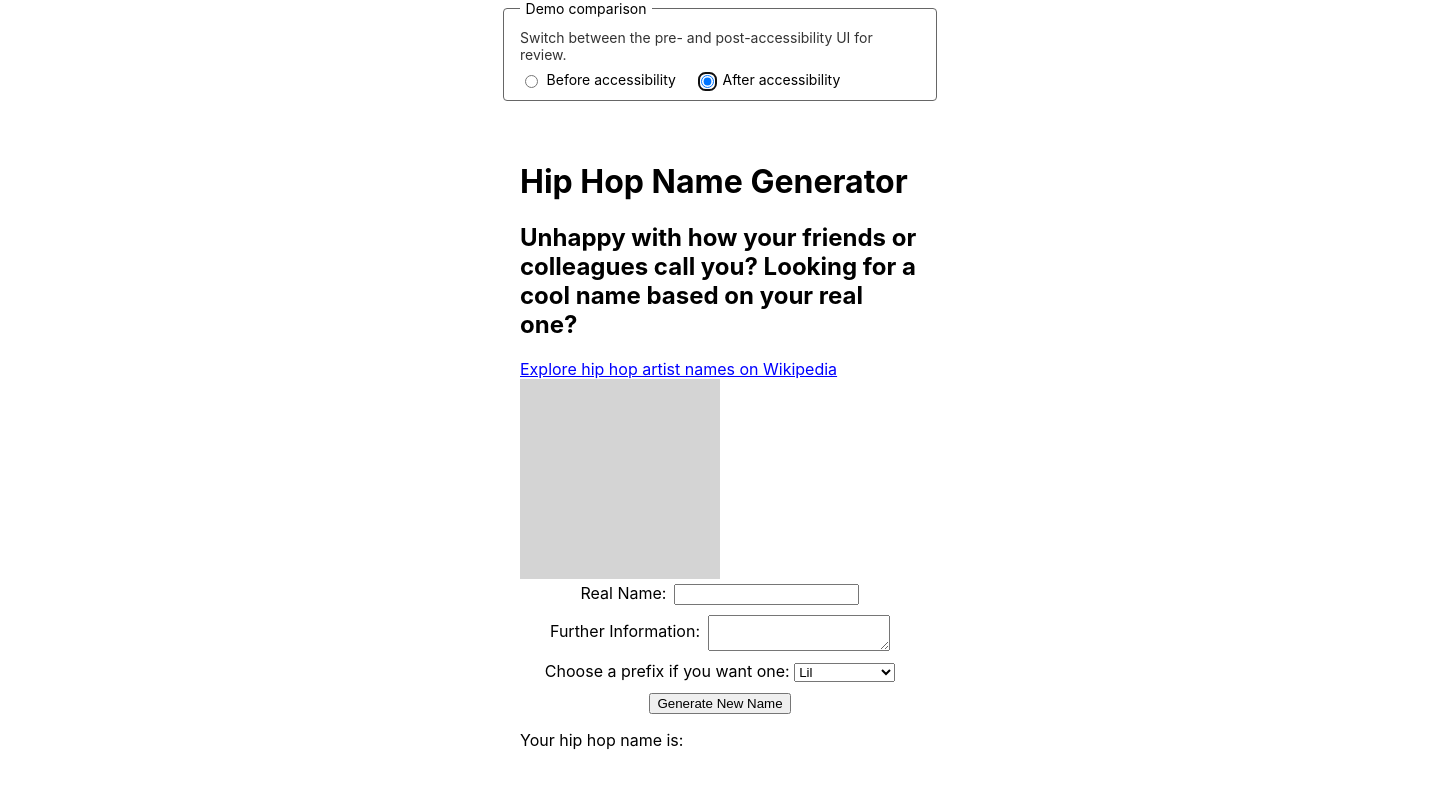
Scenario: accessibility comparison mode › toggle is keyboard operable and exposes an accessible name
Expected: the element "Demo comparison" is shown, left=503, top=0, right=937, bottom=101
Step 1. Click the radio button labelled "Before accessibility" → (532, 81), box left=525, top=74, right=538, bottom=88
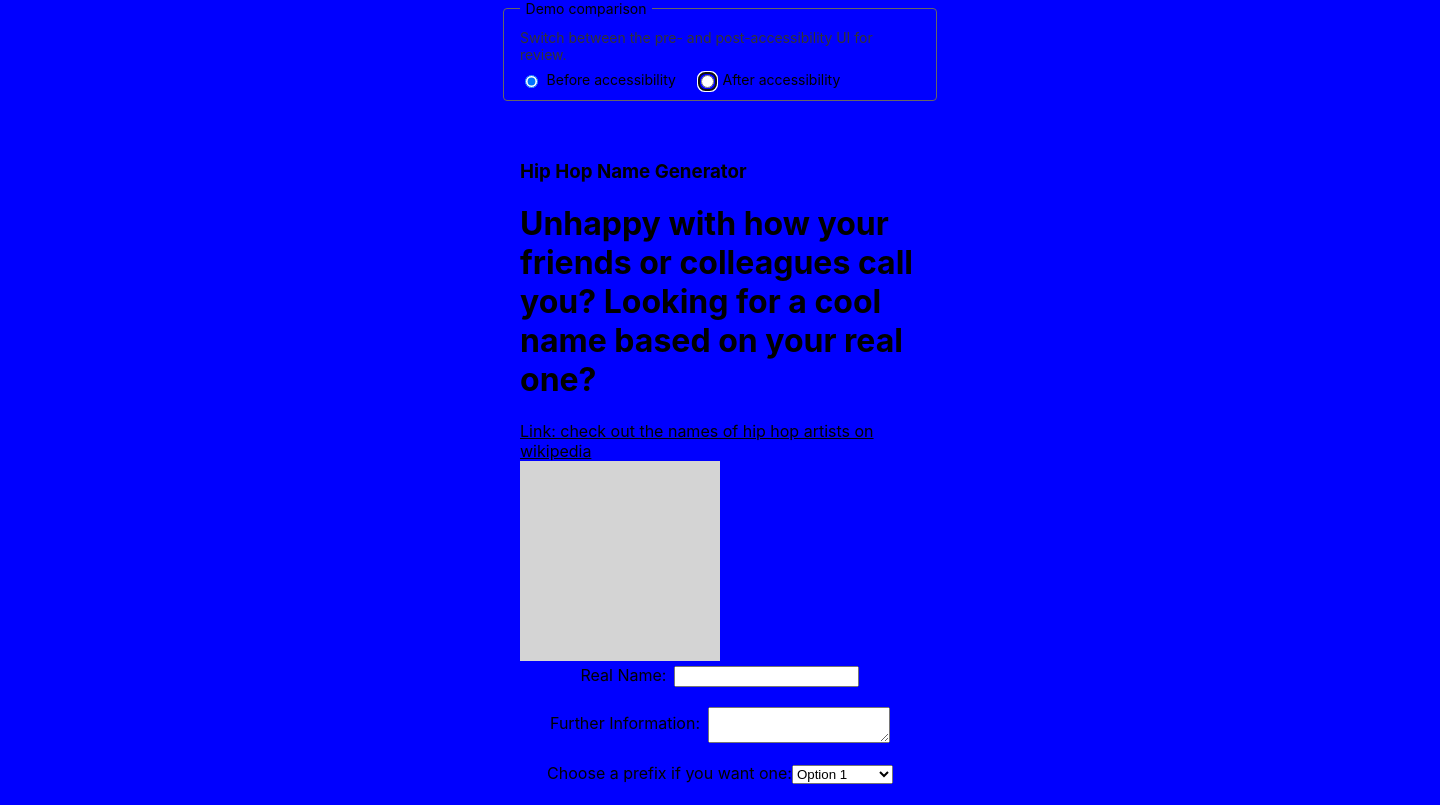
Expected: the radio button labelled "Before accessibility" is checked, left=525, top=74, right=538, bottom=88
Expected: the radio button labelled "After accessibility" is not checked, left=701, top=74, right=714, bottom=88
